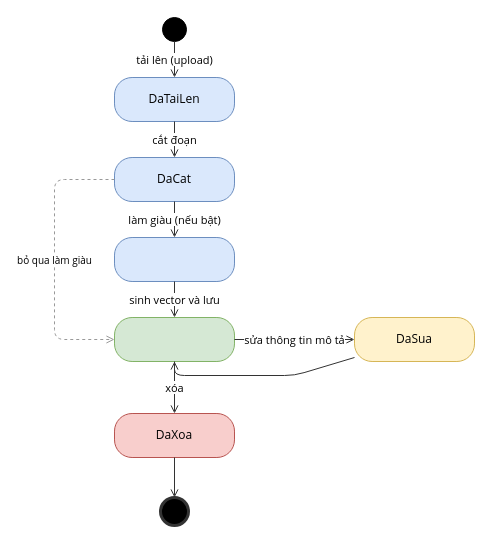
The diagram is 492 pixels wide and 544 high, and some of its shapes have lost their labels. The shapes that lost their labels are listed below. From the top down, each one's centre as x and y in pixels, then its label:
At pixel 174 259: "DaLamGiau".
At pixel 174 339: "DaLuu".
